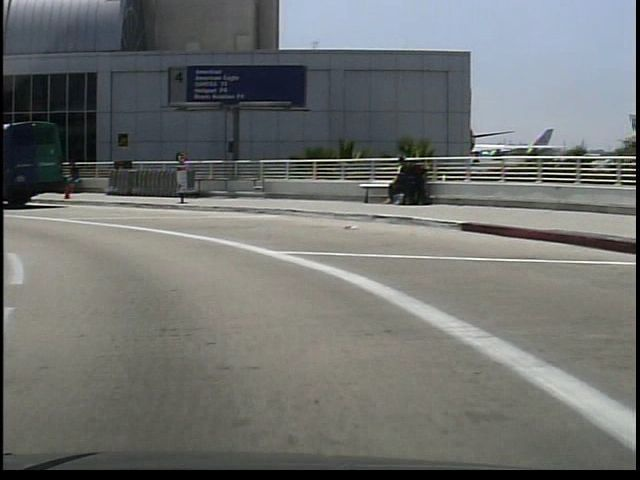person: (63, 158, 82, 197)
